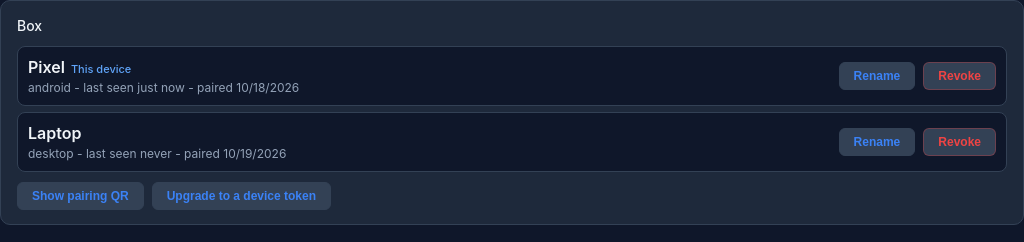
Scenario: DevicesCard › revoking this device asks to sign out
Expected: the text "Pixel" is shown, top-left (28, 57), bottom-right (65, 77)
Click the button "Revoke" in the row of "Pixel" at (960,76), box top-left (923, 62), bottom-right (996, 90)
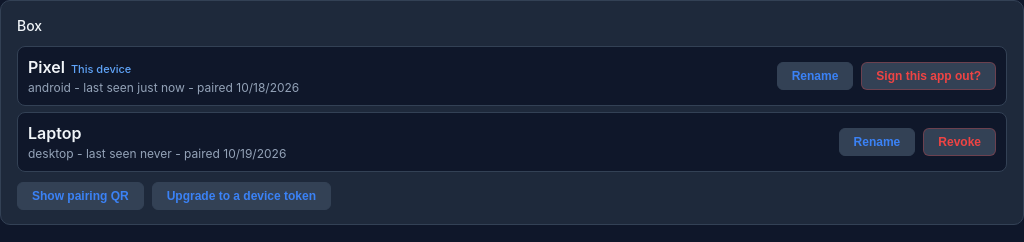
Expected: the button "Sign this app out?" is shown, top-left (861, 62), bottom-right (996, 90)
